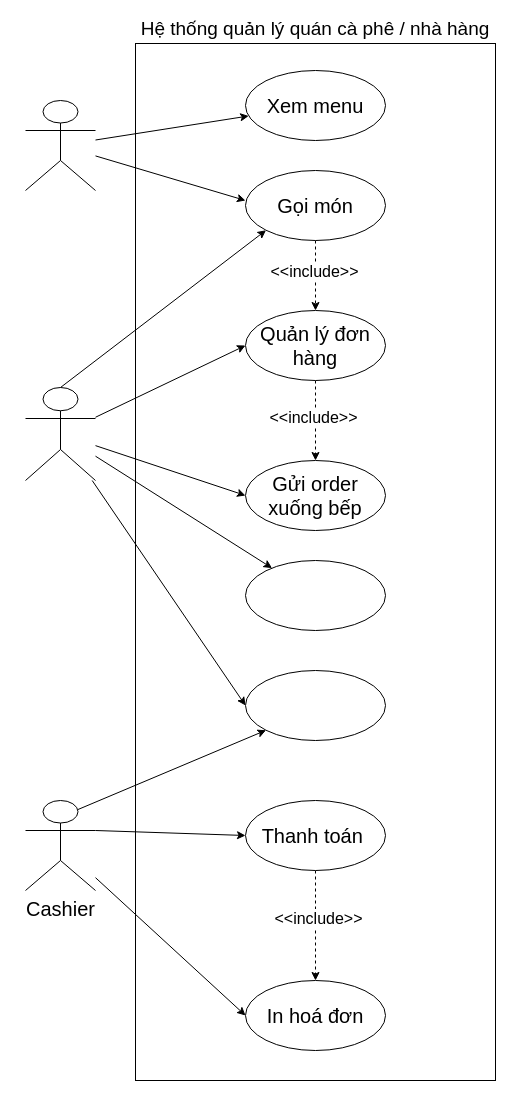
The diagram is 513 pixels wide and 1098 high, and some of its shapes have lost their labels. Here are the shapes that lost their labels. From the top down, the box of each, then its label:
(24, 100, 96, 190): Customer
(24, 386, 96, 480): Waiter
(244, 560, 386, 630): Phục vụ món
(244, 670, 386, 740): Đăng nhập
